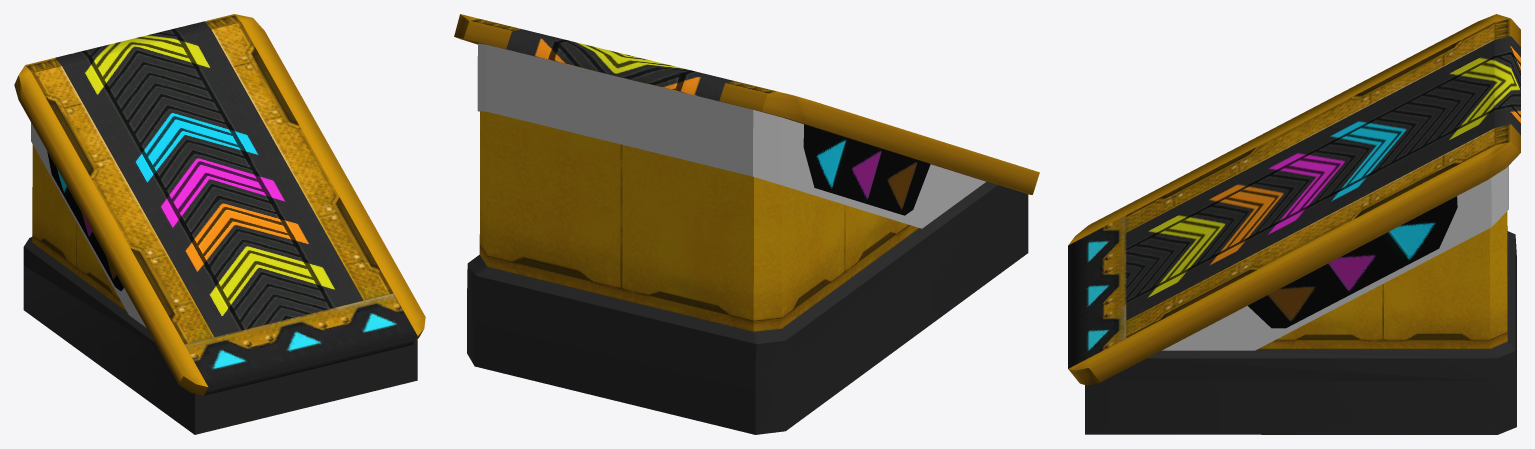
Rendered from Trick Ramp.FBX.
3 views of the same model, side by side, from view 1: azimuth 30°, elevation 25°; view 2: azimuth 150°, elevation 25°; view 3: azimuth 270°, elevation 25° (orthographic). The views are drawn at different scales.
Parts seen in each view (by area): view 1: cmn_obj_trickpanel30L_HD; view 2: cmn_obj_trickpanel30L_HD; view 3: cmn_obj_trickpanel30L_HD.
Part boxes in pixels (box(x1,y1,x2,y2)): cmn_obj_trickpanel30L_HD: box(14, 14, 425, 434); cmn_obj_trickpanel30L_HD: box(454, 14, 1039, 434); cmn_obj_trickpanel30L_HD: box(1068, 14, 1520, 434).
Size of the model in its own units: 3.96 by 3.74 by 5.32.
